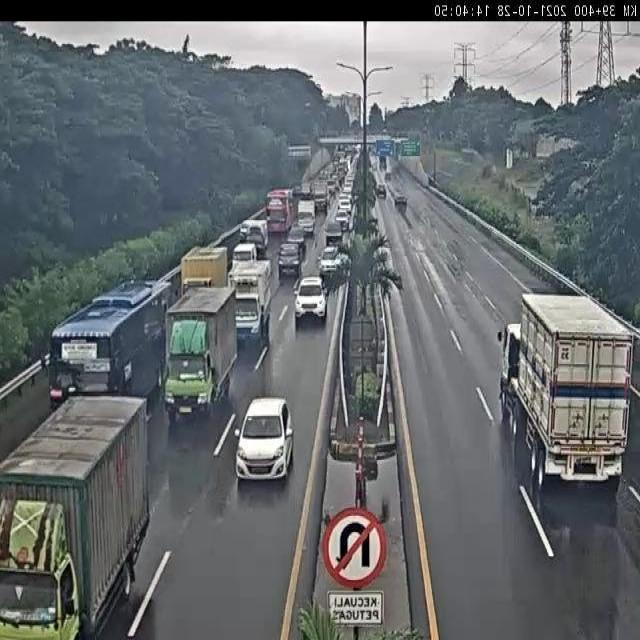Car: (225, 393, 297, 490), (293, 276, 327, 324), (240, 219, 269, 257), (277, 240, 304, 278), (318, 245, 344, 278), (324, 220, 344, 248), (337, 192, 352, 224), (326, 177, 338, 199), (368, 148, 379, 171), (298, 181, 312, 199), (394, 193, 407, 208), (375, 183, 386, 198), (336, 146, 346, 159), (353, 145, 361, 160)
Truck: (1, 396, 150, 640), (498, 293, 632, 511), (51, 272, 168, 403), (163, 284, 241, 426)
